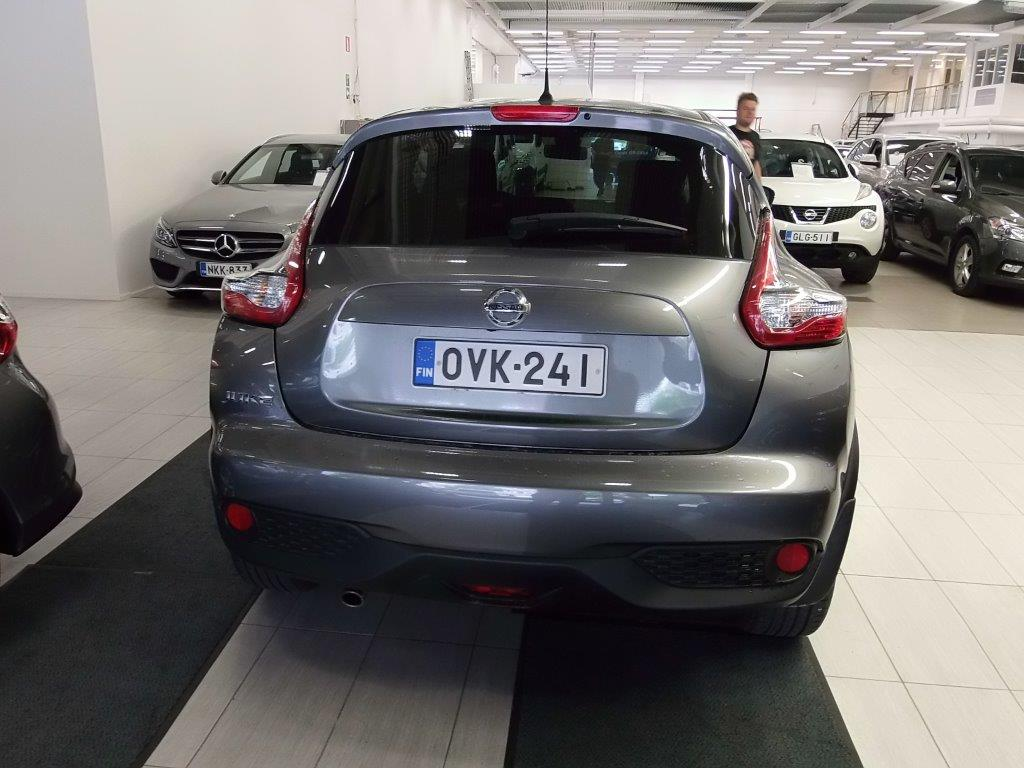license: (413, 339, 605, 394)
